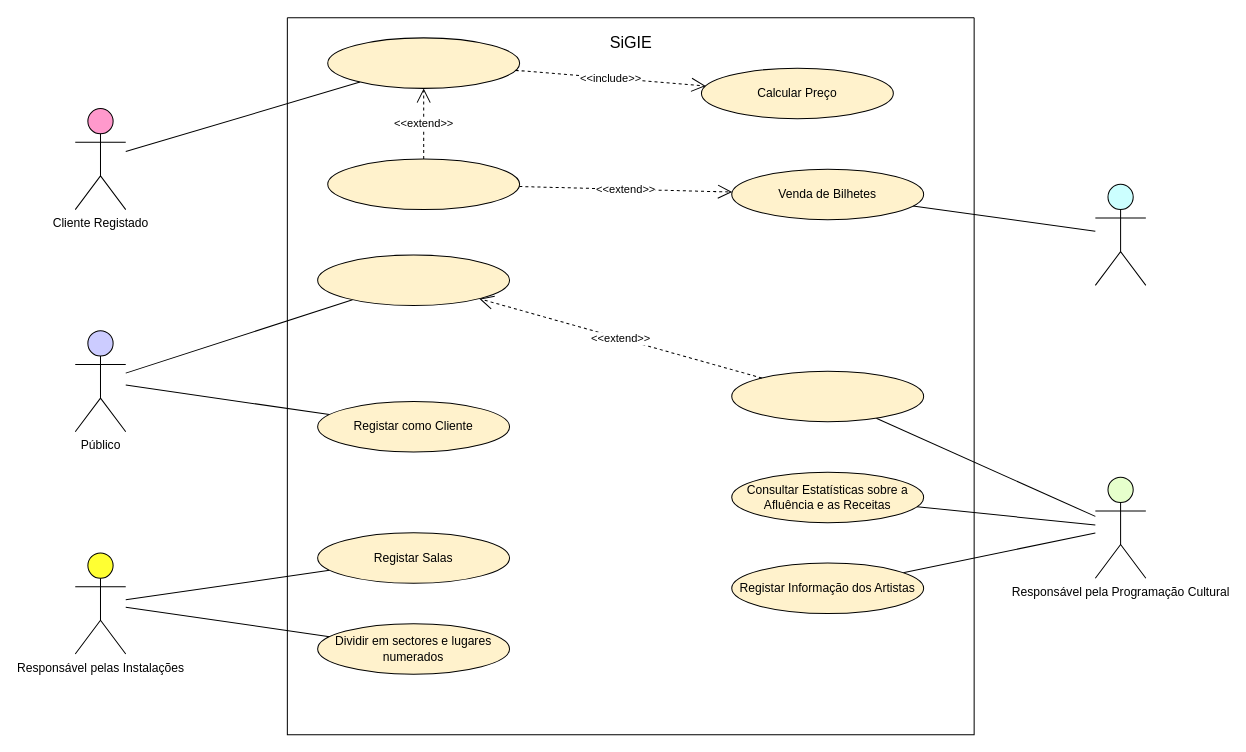
Image size: 1246x752. Some labels were removed from this diagram. Here are the shapes that lost their labels. From the top down, the centre of each, then its label:
point 423,62: Reservar Bilhetes
point 423,184: Escolher Lugares
point 1120,234: Empregado de Caixa
point 413,280: Consultar Programação Cultural
point 827,396: Registar Programação Cultural
